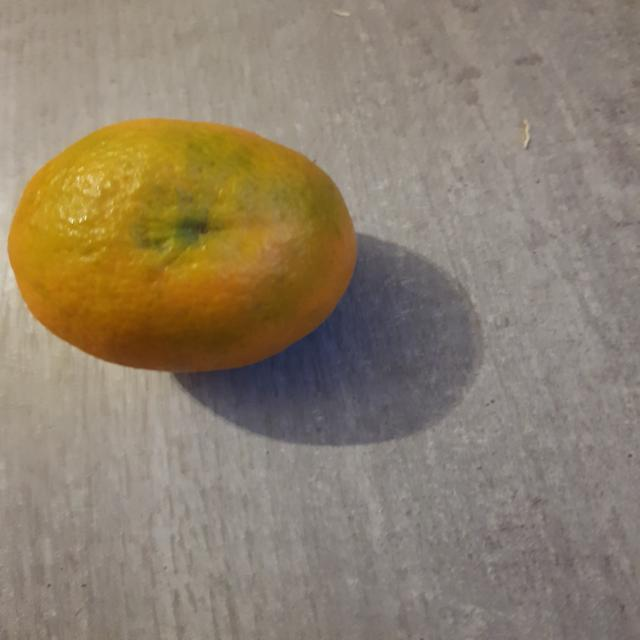Orange: (6, 118, 359, 375)
